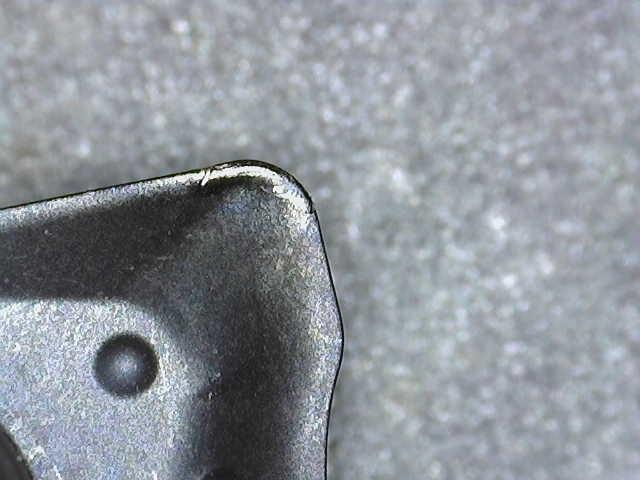normal: (2, 175, 206, 235), (296, 214, 340, 476)
wear: (188, 164, 314, 211)
